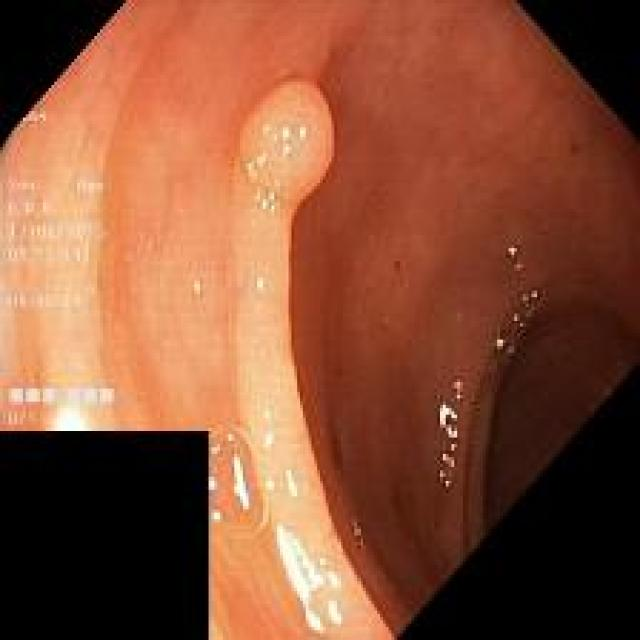Polyps: (240, 83, 332, 214)
